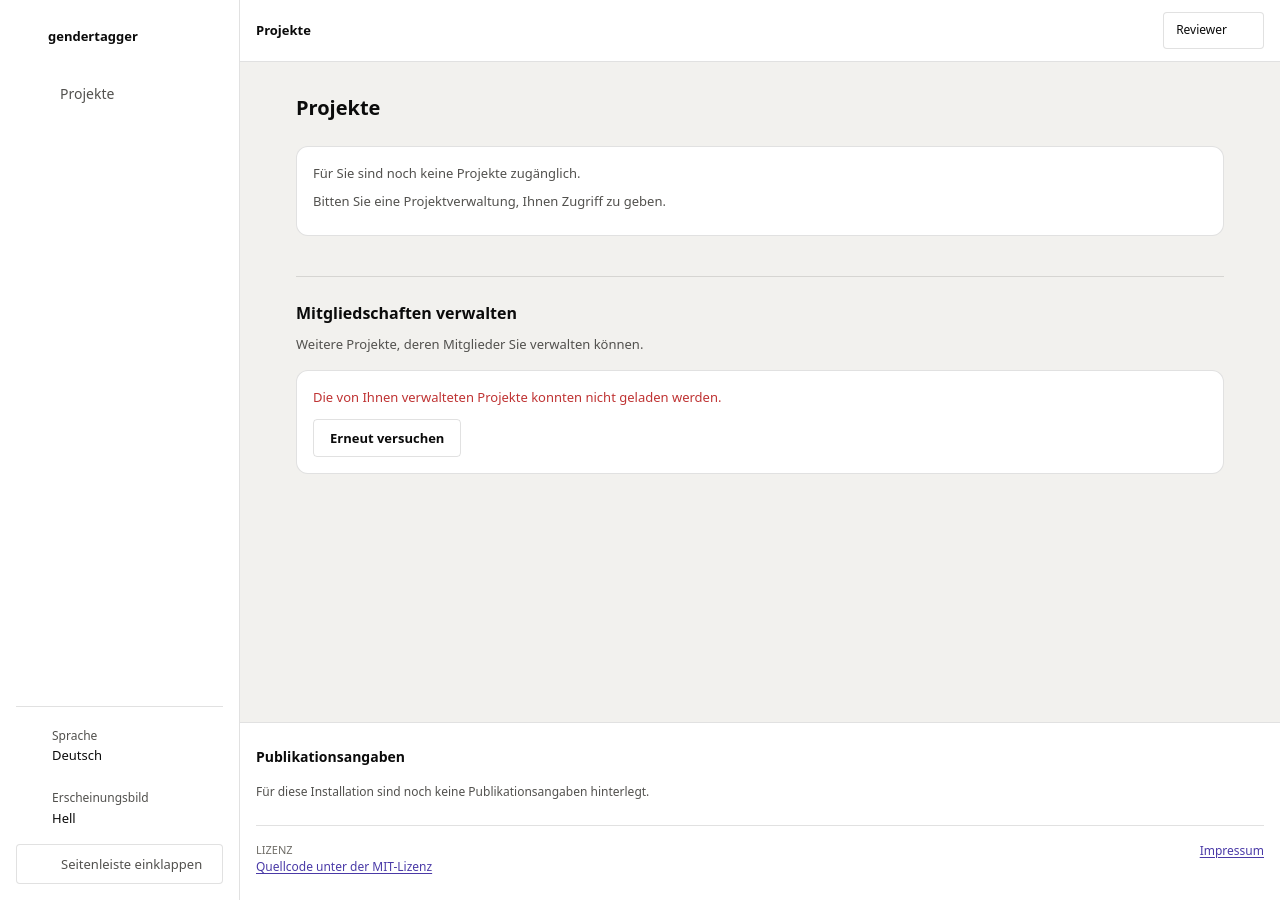
Test: desktop sidebar collapse in de › discards a late save after the initiating account signs out
The image size is (1280, 900).
Click the button with class "sidebar-collapse-button" at (120, 864), box [16, 844, 223, 884]
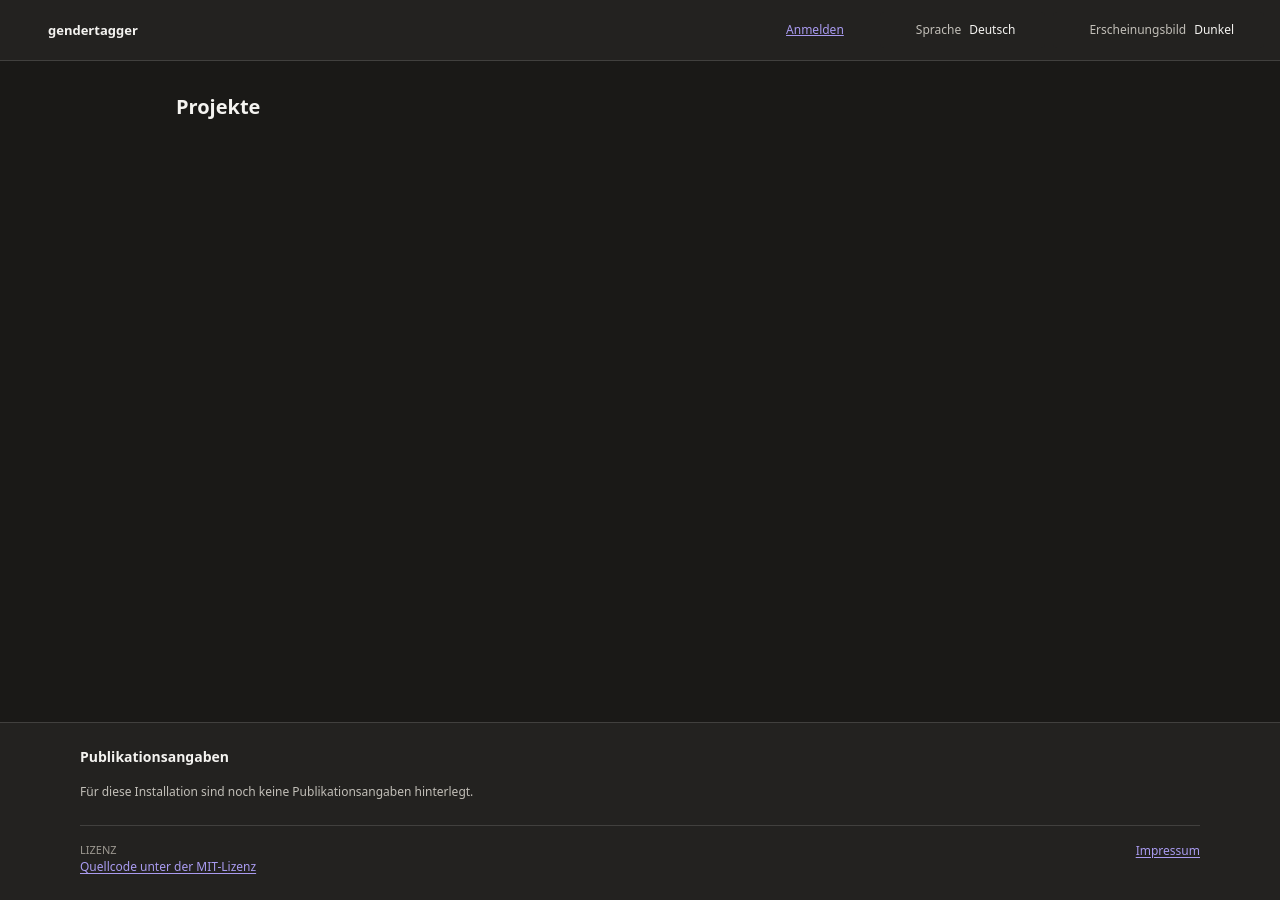
Expected: the link with class "app-header-brand" is shown, [48, 21, 138, 39]
Now the element showing "Erscheinungsbild Dunkel" is shown, box [1053, 12, 1264, 48]
